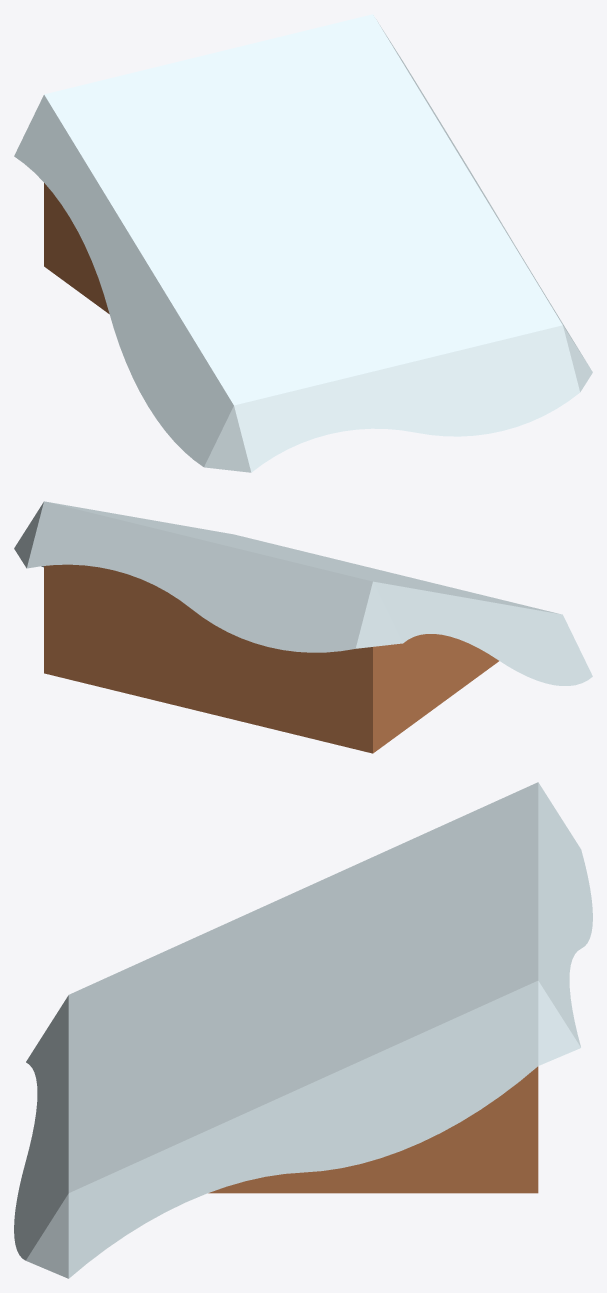
Rendered from blockSnowSlopeHalf.fbx.
3 views of the same model, one above another, from view 1: azimuth 30°, elevation 25°; view 2: azimuth 150°, elevation 25°; view 3: azimuth 270°, elevation 25° (orthographic). The views are drawn at different scales.
Visible parts, largest first — view 1: blockSnowSlopeHalf; view 2: blockSnowSlopeHalf; view 3: blockSnowSlopeHalf.
Part boxes in pixels (bbox=[...]): blockSnowSlopeHalf: bbox=[14, 14, 592, 472]; blockSnowSlopeHalf: bbox=[14, 501, 592, 753]; blockSnowSlopeHalf: bbox=[14, 782, 592, 1278].
Bounding box in the file's own units: 12.33 × 7.02 × 12.33.
